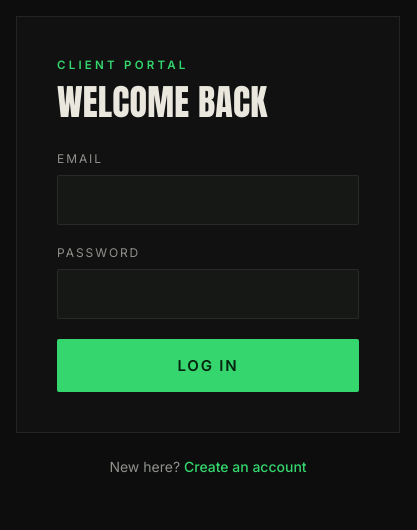
LoginPage › shows the server's error message and does not redirect on bad credentials
Type "a@b.c" into the field labelled "Email" at (208, 200), box [57, 175, 359, 225]
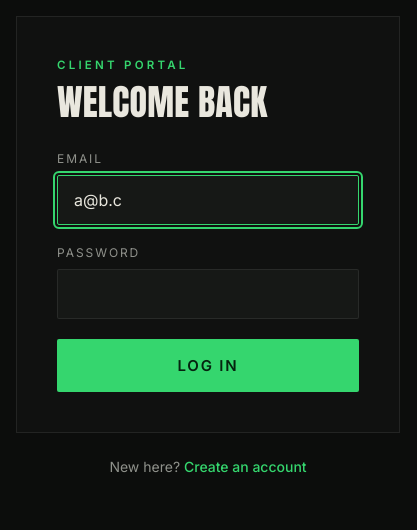
Type "wrong" into the password field labelled "Password" at (208, 294), box [57, 269, 359, 319]
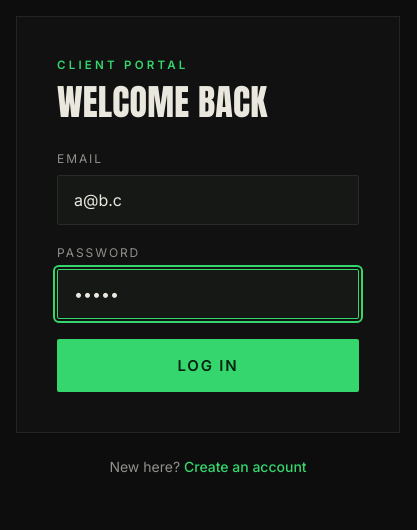
Click the button "Log In" at (208, 365), box [57, 339, 359, 392]
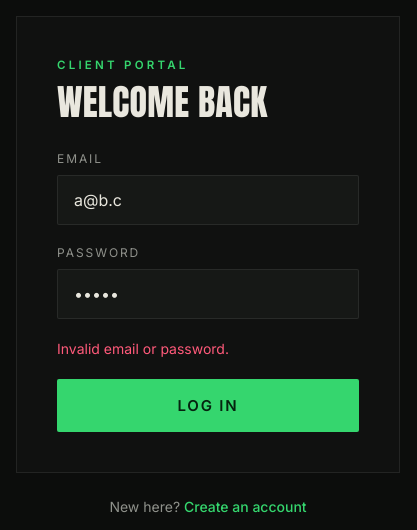
Expected: the text "Invalid email or password." is shown, [57, 340, 229, 357]
